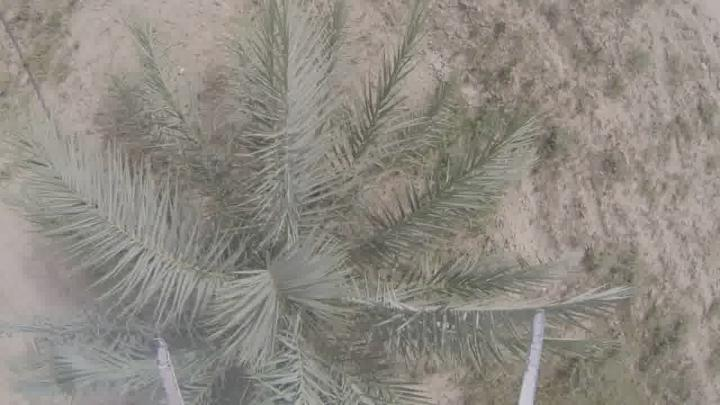Date-Palm-Crown: (138, 118, 458, 404)
